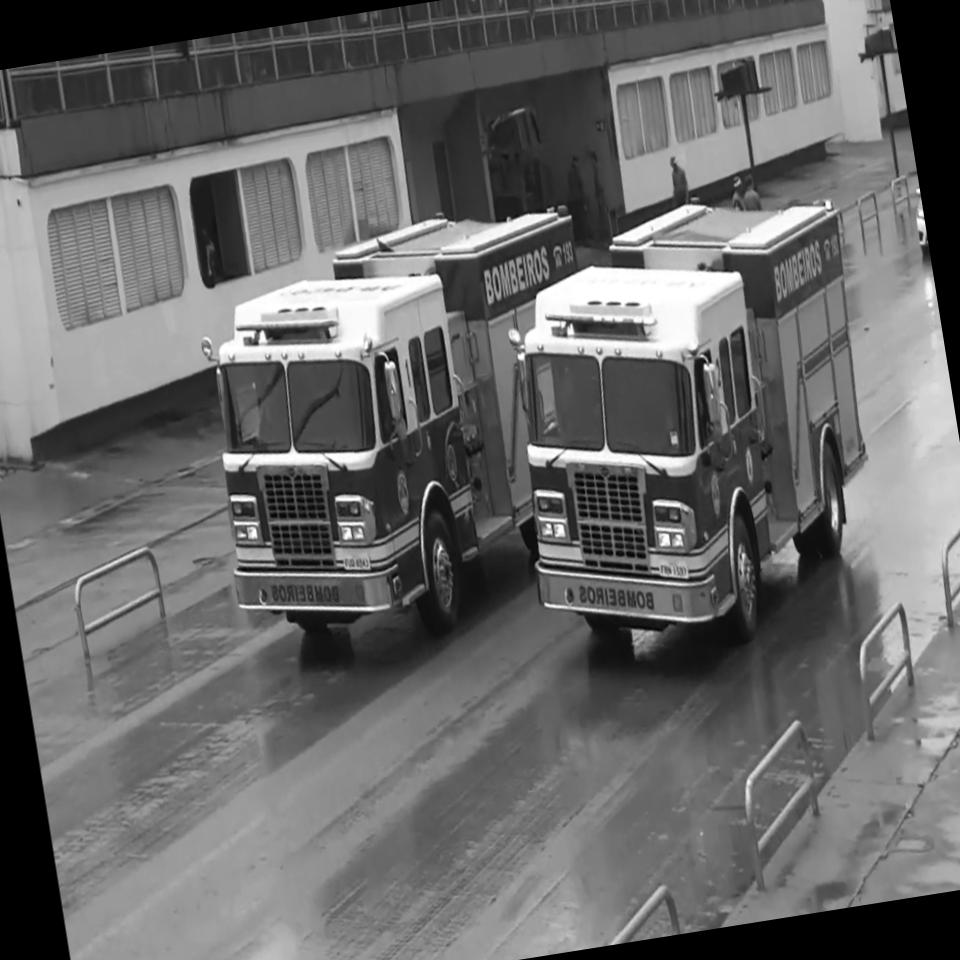viatura: (183, 192, 636, 670), (483, 178, 905, 672)
